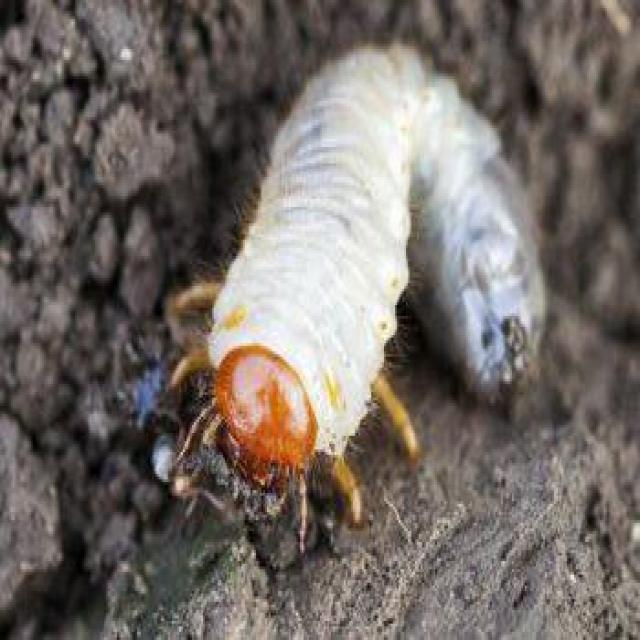Grub-Adult-: (196, 37, 553, 506)
